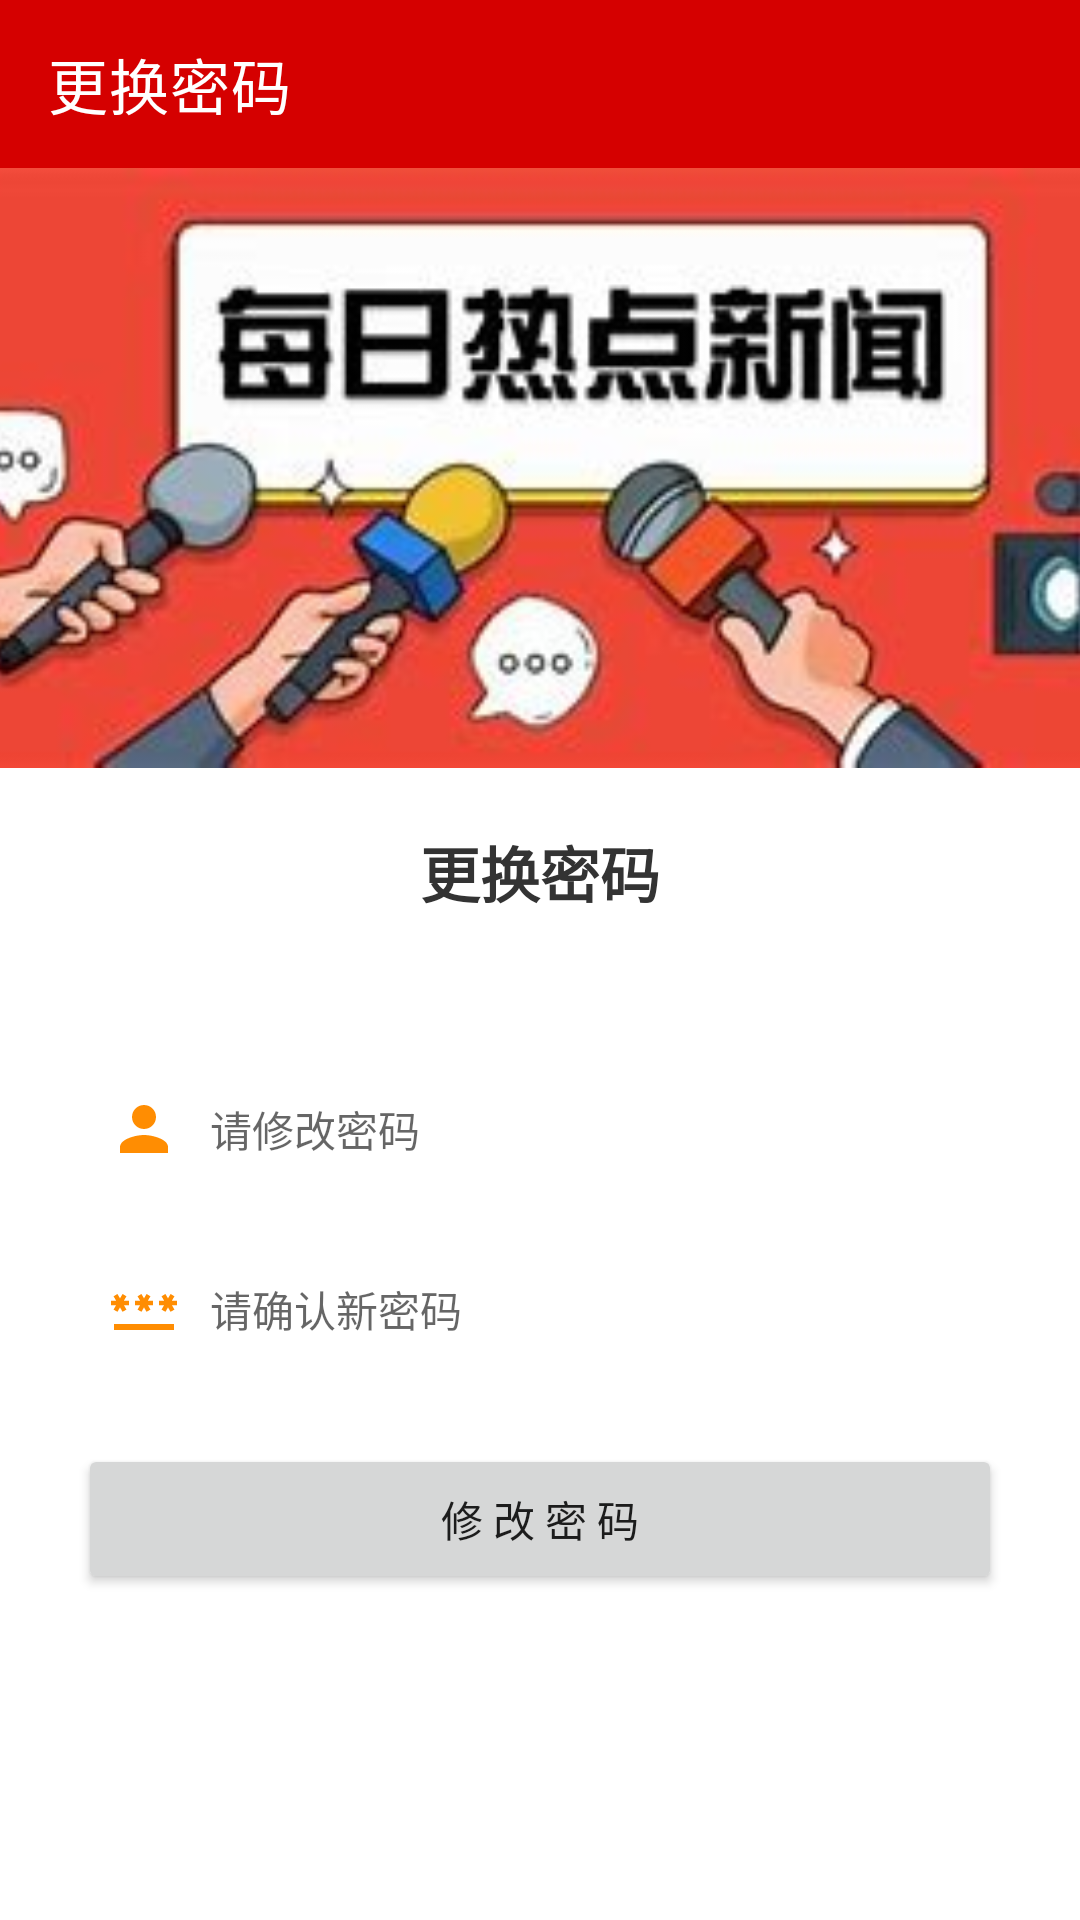

Named icons in this screenshot (1080w x 1920h) and their centers, (x,y):
password: (144,1312)
person: (144,1129)
